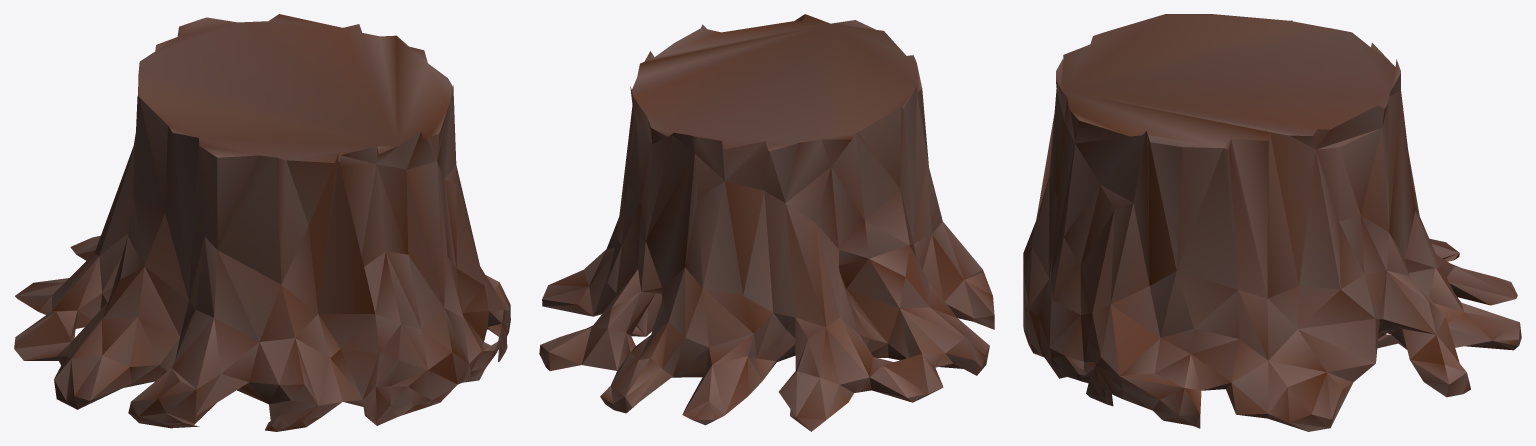
File: cherry_stump.glb
3 views of the same model, side by side, from view 1: azimuth 30°, elevation 25°; view 2: azimuth 150°, elevation 25°; view 3: azimuth 270°, elevation 25° (orthographic). The views are drawn at different scales.
Parts seen in each view (by area): view 1: Stump; view 2: Stump; view 3: Stump.
Boxes of the visible parts, x1,y1,x2,y2 form: Stump: (14,14,510,431); Stump: (539,14,994,431); Stump: (1023,14,1521,431).
Size of the model in its own units: 1.2 by 0.6981 by 1.2.
